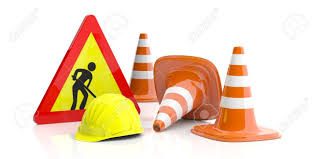cones: (207, 49, 279, 142)
